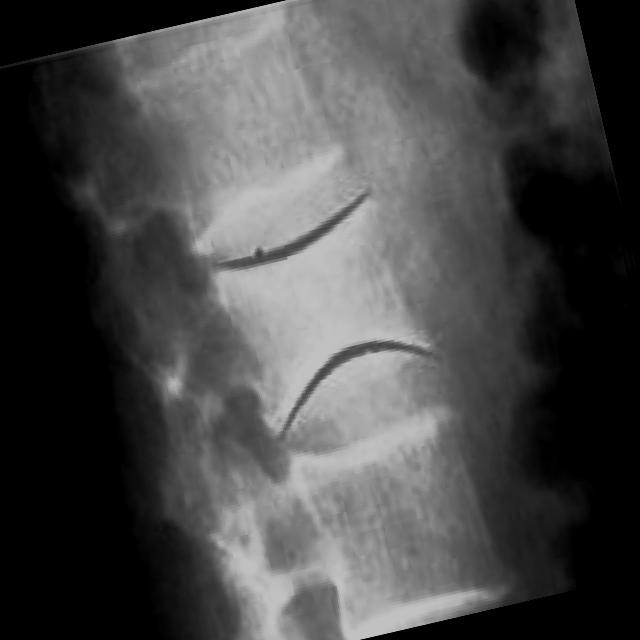Compression-Crush Fracutre: (202, 247, 422, 394)
